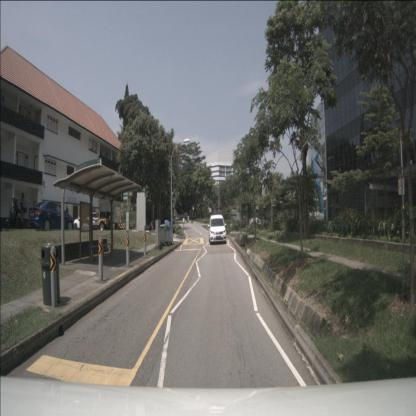human-pedestrian-adult: (11, 195, 23, 228), (182, 217, 185, 227)
vehicle-car: (28, 200, 74, 231), (86, 210, 111, 232), (208, 214, 226, 244), (72, 211, 99, 230), (248, 218, 262, 228)
